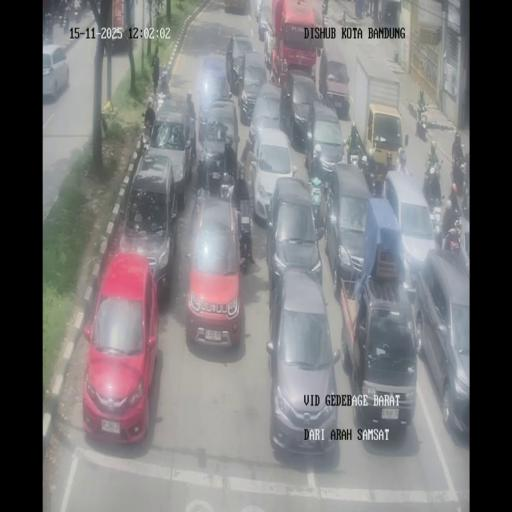car: (82, 252, 160, 442), (267, 270, 339, 458), (414, 251, 469, 441), (383, 170, 439, 292), (326, 162, 373, 290), (144, 99, 193, 204), (251, 123, 297, 225), (306, 95, 344, 178), (199, 56, 233, 131), (235, 50, 267, 125), (42, 45, 69, 101), (257, 2, 273, 44)
motorcycle: (234, 196, 254, 271), (189, 185, 210, 253), (308, 172, 326, 235), (358, 153, 379, 197), (423, 164, 442, 210), (429, 201, 445, 246), (443, 221, 462, 255), (451, 153, 466, 195), (346, 136, 363, 168), (139, 117, 152, 155), (220, 172, 236, 202), (415, 105, 428, 139), (324, 183, 334, 217), (462, 186, 470, 222), (41, 22, 53, 44), (160, 68, 169, 95), (59, 9, 68, 28), (74, 3, 82, 23), (321, 0, 329, 18), (65, 3, 72, 17), (362, 0, 368, 16)
truck: (268, 0, 320, 87), (101, 0, 137, 52), (380, 0, 402, 27)
